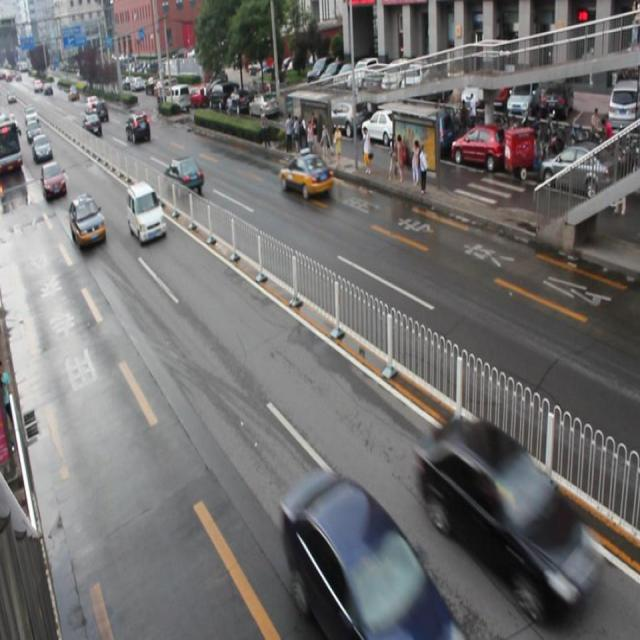car: (417, 419, 602, 623), (279, 470, 451, 640), (278, 148, 331, 200), (126, 180, 168, 244), (68, 193, 106, 248), (164, 155, 204, 193), (42, 159, 68, 201), (126, 112, 150, 144)
